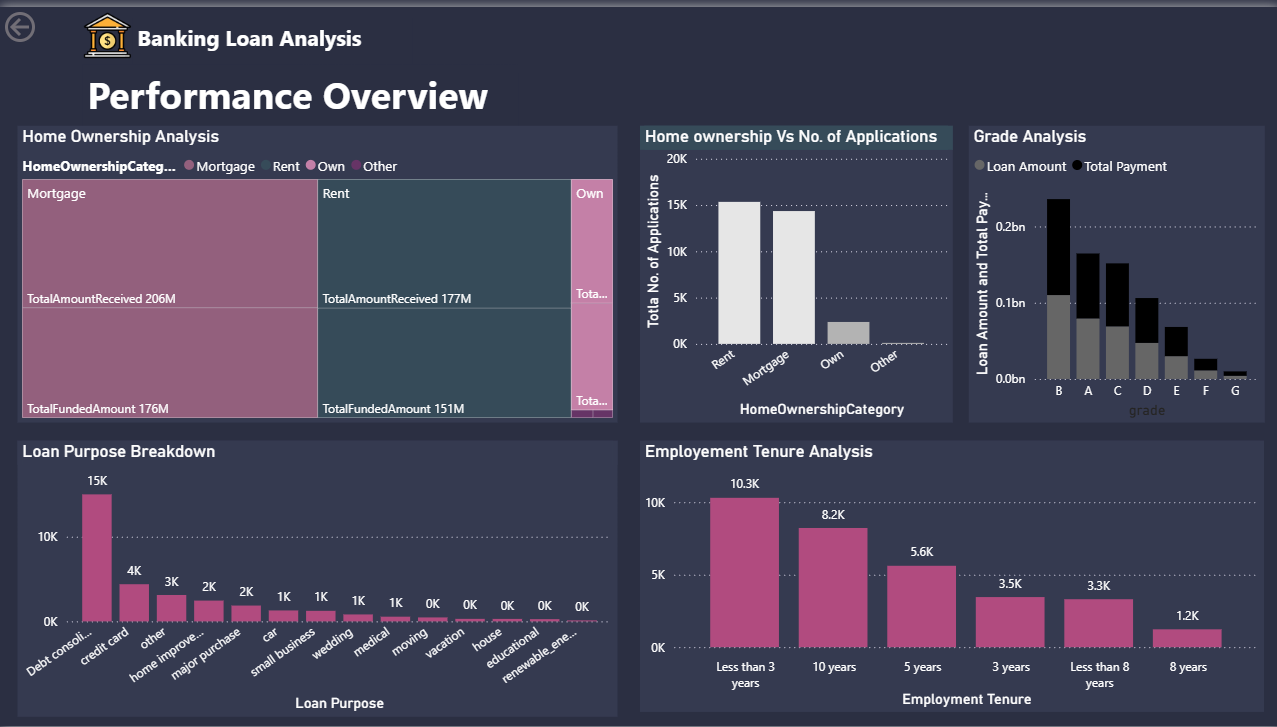

The page's visual inventory and layout, read from the dashboard file:
{"tool":"powerbi","page":{"name":"Applicant Info","canvas":[1280,720],"ordinal":3},"visuals":[{"type":"textbox","box":[132.9,11.4,280,51.4],"z":0},{"type":"textbox","box":[82.9,57.1,435.7,61.4],"z":1000},{"type":"image","box":[65.7,0,82.9,57.1],"z":2000},{"type":"treemap","title":"Home Ownership Analysis","fields":{"Group":["financial_loan_data.HomeOwnershipCategory"],"Values":["financial_loan_data.TotalAmountReceived","financial_loan_data.TotalFundedAmount"]},"box":[17.1,118.6,600,297.1],"z":3000},{"type":"columnChart","title":"Home ownership Vs No. of Applications","fields":{"Category":["financial_loan_data.HomeOwnershipCategory"],"Y":["CountNonNull(financial_loan_data.id)"]},"box":[640,118.6,312.9,297.1],"z":4000},{"type":"clusteredColumnChart","title":"Employee Length Analysis","fields":{"Category":["financial_loan_data.Employ_length"],"Y":["financial_loan_data.EmployeeLoanApplications"]},"box":[640,434.3,624.3,271.4],"z":5000},{"type":"clusteredColumnChart","title":"Loan Purpose Breakdown","fields":{"Category":["financial_loan_data.purpose"],"Y":["financial_loan_data.EmployeeLoanApplications"]},"box":[17.1,434.3,600,275.7],"z":6000},{"type":"columnChart","title":"Grade Analysis","fields":{"Category":["financial_loan_data.grade"],"Y":["Sum(financial_loan_data.loan_amount)","Sum(financial_loan_data.total_payment)"]},"box":[968.6,118.6,295.7,297.1],"z":7000},{"type":"actionButton","box":[0,0,100,40],"z":8000}]}

Visuals, with their boxes on the page's 1280x720 design canvas (x1, y1, x2, y2). These are canvas units, not pixel positions in the 1277x727 screenshot, which may show the page scaled, cropped or inside an application window:
textbox: [x1=133, y1=11, x2=413, y2=63]
textbox: [x1=83, y1=57, x2=519, y2=118]
image: [x1=66, y1=0, x2=149, y2=57]
"Home Ownership Analysis" treemap: [x1=17, y1=119, x2=617, y2=416]
"Home ownership Vs No. of Applications" columnChart: [x1=640, y1=119, x2=953, y2=416]
"Employee Length Analysis" clusteredColumnChart: [x1=640, y1=434, x2=1264, y2=706]
"Loan Purpose Breakdown" clusteredColumnChart: [x1=17, y1=434, x2=617, y2=710]
"Grade Analysis" columnChart: [x1=969, y1=119, x2=1264, y2=416]
actionButton: [x1=0, y1=0, x2=100, y2=40]
